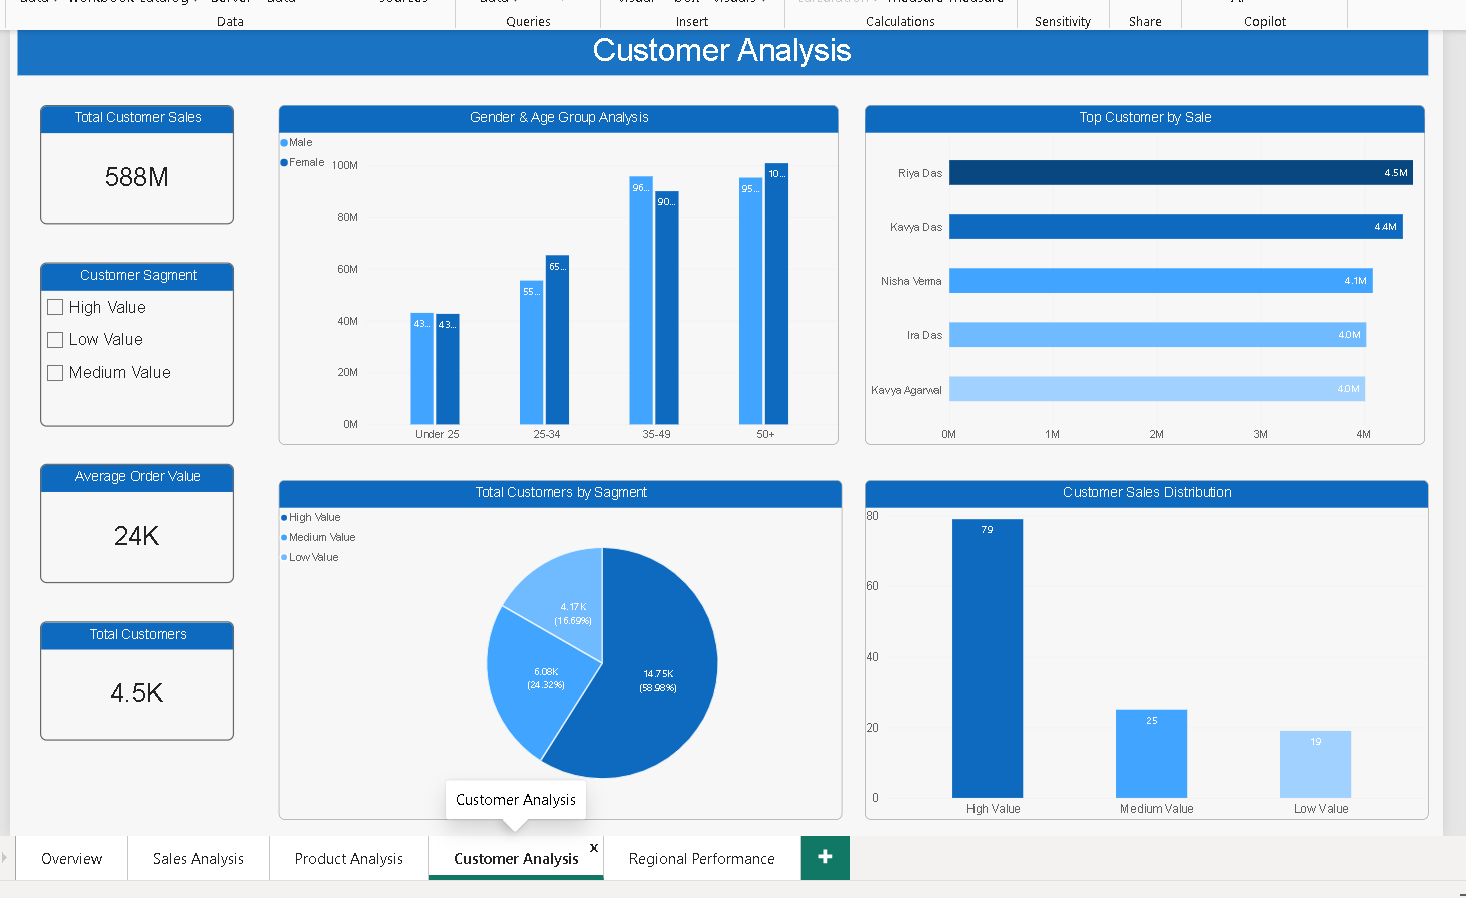

The page's visual inventory and layout, read from the dashboard file:
{"tool":"powerbi","page":{"name":"Customer Analysis","canvas":[1920,1080],"ordinal":3},"visuals":[{"type":"textbox","box":[10.5,0,1890.7,61],"z":0},{"type":"pieChart","title":"Total Customers by Sagment","fields":{"Category":["Sales_Data.Customer_Segment"],"Y":["CountNonNull(Sales_Data.Customer_ID)"]},"box":[360,602.9,755,455],"z":1000},{"type":"clusteredBarChart","title":"Top Customer by Sale","fields":{"Category":["Sales_Data.Customer_Name"],"Y":["Sum(Sales_Data.Sales)"]},"box":[1146.5,100.8,750,455],"z":2000},{"type":"cardVisual","title":"Average Order Value","fields":{"Data":["Sales_Data.Average Order Value"]},"box":[39.6,581.5,260,160],"z":3000},{"type":"clusteredColumnChart","title":"Customer Sales Distribution","fields":{"Category":["Sales_Data.Customer_Segment"],"Y":["Count(Sales_Data.Customer_ID)"]},"box":[1146.5,602.9,755,455],"z":4000},{"type":"clusteredColumnChart","title":"Gender & Age Group Analysis","fields":{"Category":["Sales_Data.Age Group"],"Series":["Customers.Gender"],"Y":["Sum(Sales_Data.Sales)"]},"box":[360,100.8,750,455],"z":5000},{"type":"cardVisual","title":"Total Customers","fields":{"Data":["Count(Sales_Data.Customer_ID)"]},"box":[39.6,791.9,260,160],"z":6000},{"type":"cardVisual","title":"Total Customer Sales","fields":{"Data":["Sales_Data.Customer Sales"]},"box":[39.6,100.8,260,160],"z":7000},{"type":"slicer","title":"Customer Sagment","fields":{"Values":["Sales_Data.Customer_Segment"]},"box":[39.6,311.2,260,220],"z":8000}]}

Visuals, with their boxes on the page's 1920x1080 design canvas (x1, y1, x2, y2). These are canvas units, not pixel positions in the 1466x898 screenshot, which may show the page scaled, cropped or inside an application window:
textbox: 10,0,1901,61
"Total Customers by Sagment" pieChart: 360,603,1115,1058
"Top Customer by Sale" clusteredBarChart: 1146,101,1896,556
"Average Order Value" cardVisual: 40,582,300,742
"Customer Sales Distribution" clusteredColumnChart: 1146,603,1902,1058
"Gender & Age Group Analysis" clusteredColumnChart: 360,101,1110,556
"Total Customers" cardVisual: 40,792,300,952
"Total Customer Sales" cardVisual: 40,101,300,261
"Customer Sagment" slicer: 40,311,300,531
